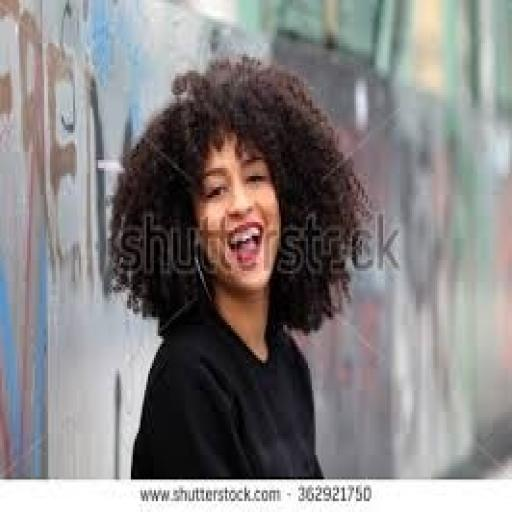laughing: (102, 49, 375, 477)
